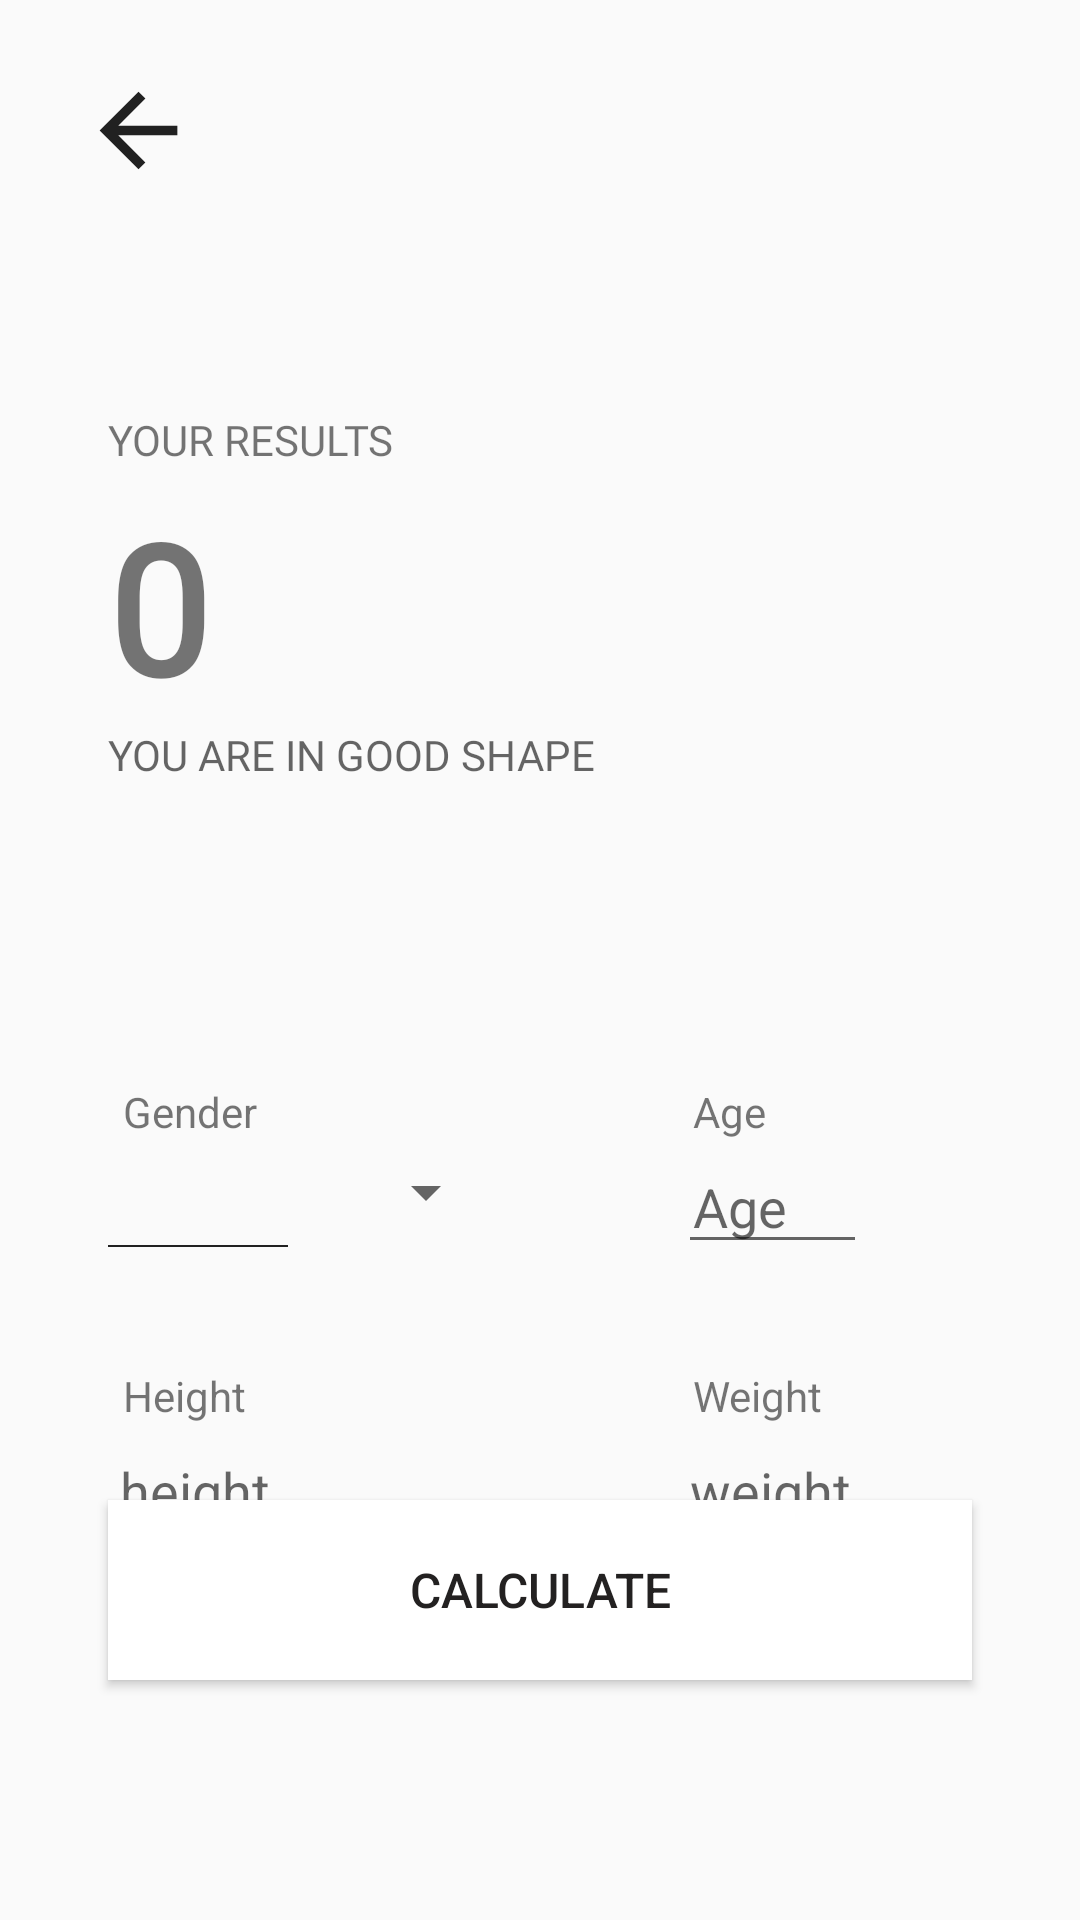

Locate icon controls on the screen. Image size 1080w x 1920h, boxes as detection(x1, y1, x2, y2).
back arrow: detection(99, 92, 178, 169)
